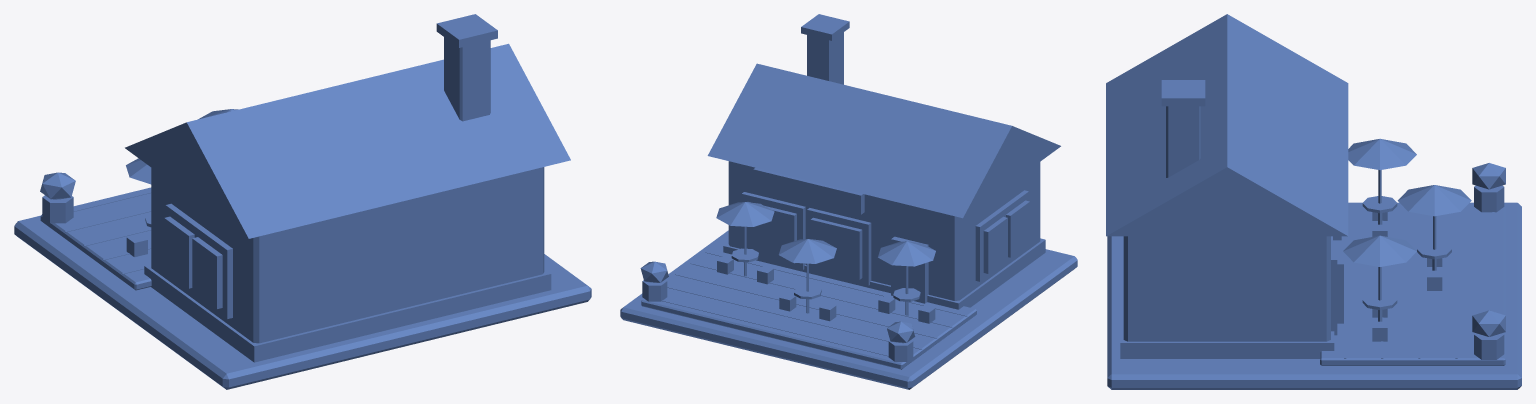
The picture shows the model from 3 angles, left to right: view 1: azimuth 30°, elevation 25°; view 2: azimuth 150°, elevation 25°; view 3: azimuth 270°, elevation 25°; orthographic projection. The views are drawn at different scales.
Visible parts, largest first — view 1: corpo; view 2: corpo; view 3: corpo.
Part boxes in pixels (left/top/right/bottom): corpo: left=14, top=14, right=591, bottom=389; corpo: left=620, top=14, right=1077, bottom=389; corpo: left=1106, top=14, right=1521, bottom=389.
Size of the model in its own units: 1.9 by 1.32 by 1.91.
